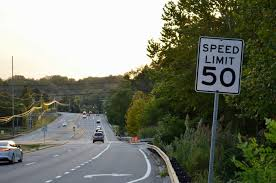speedLimit50: (194, 33, 244, 96)
